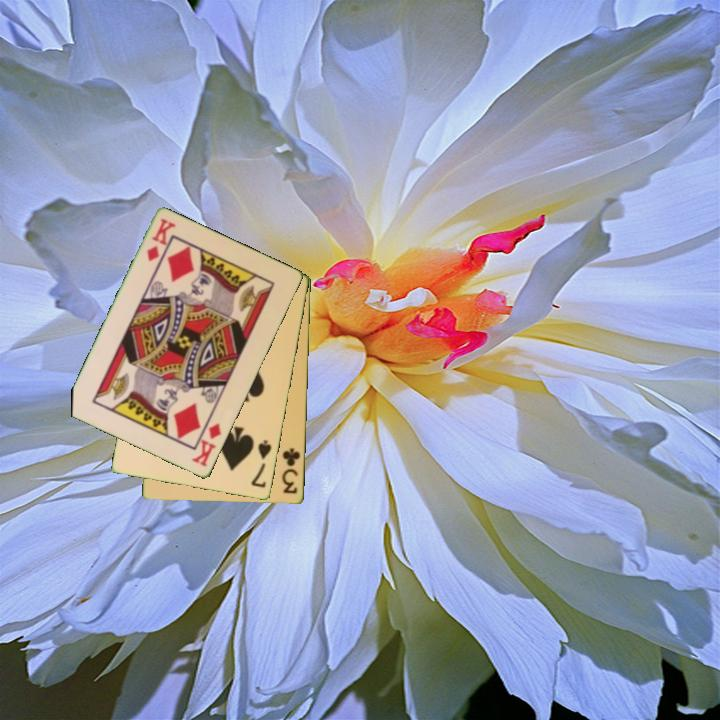3c: (279, 445, 303, 497)
7s: (248, 437, 275, 491)
Kd: (188, 420, 224, 470), (143, 215, 178, 265)
